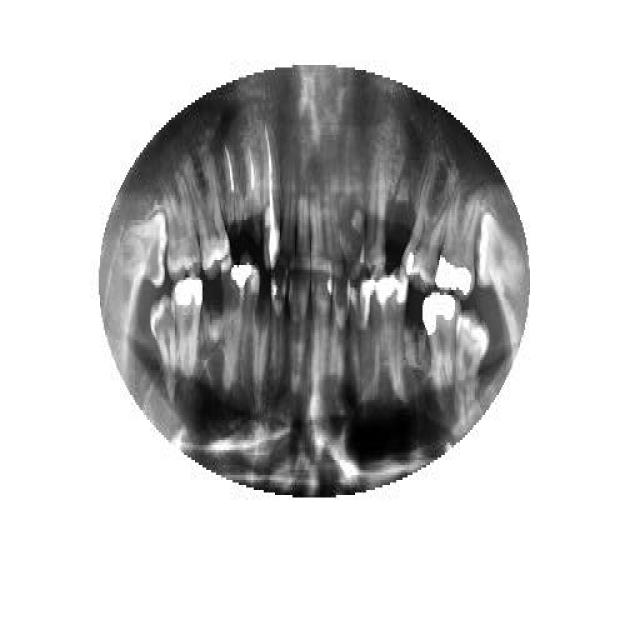Cavity: (341, 122, 365, 278), (217, 258, 245, 388), (221, 140, 244, 245), (251, 290, 270, 405), (245, 135, 263, 245), (389, 175, 411, 245)
Fillings: (400, 160, 456, 290), (436, 178, 474, 298), (421, 295, 459, 400), (378, 273, 408, 395), (171, 272, 204, 380), (219, 260, 245, 390)
Impacted Tooth: (475, 215, 527, 295), (121, 212, 169, 290)
Implant: (262, 120, 282, 272)
